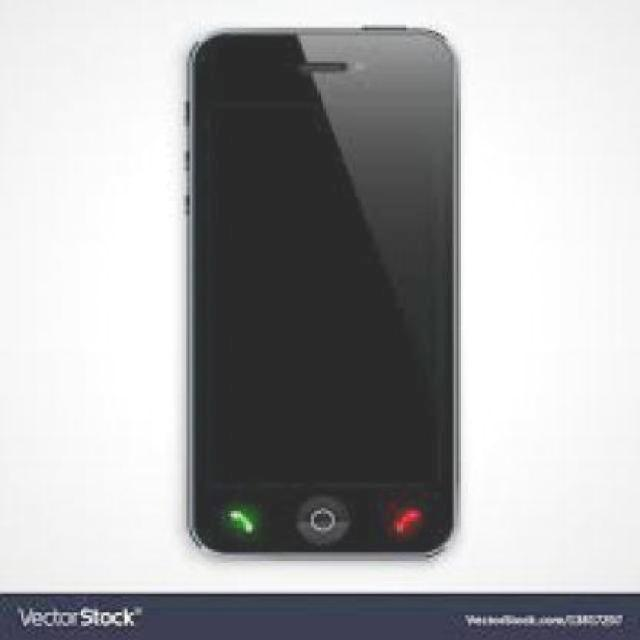phone: (189, 25, 462, 561)
